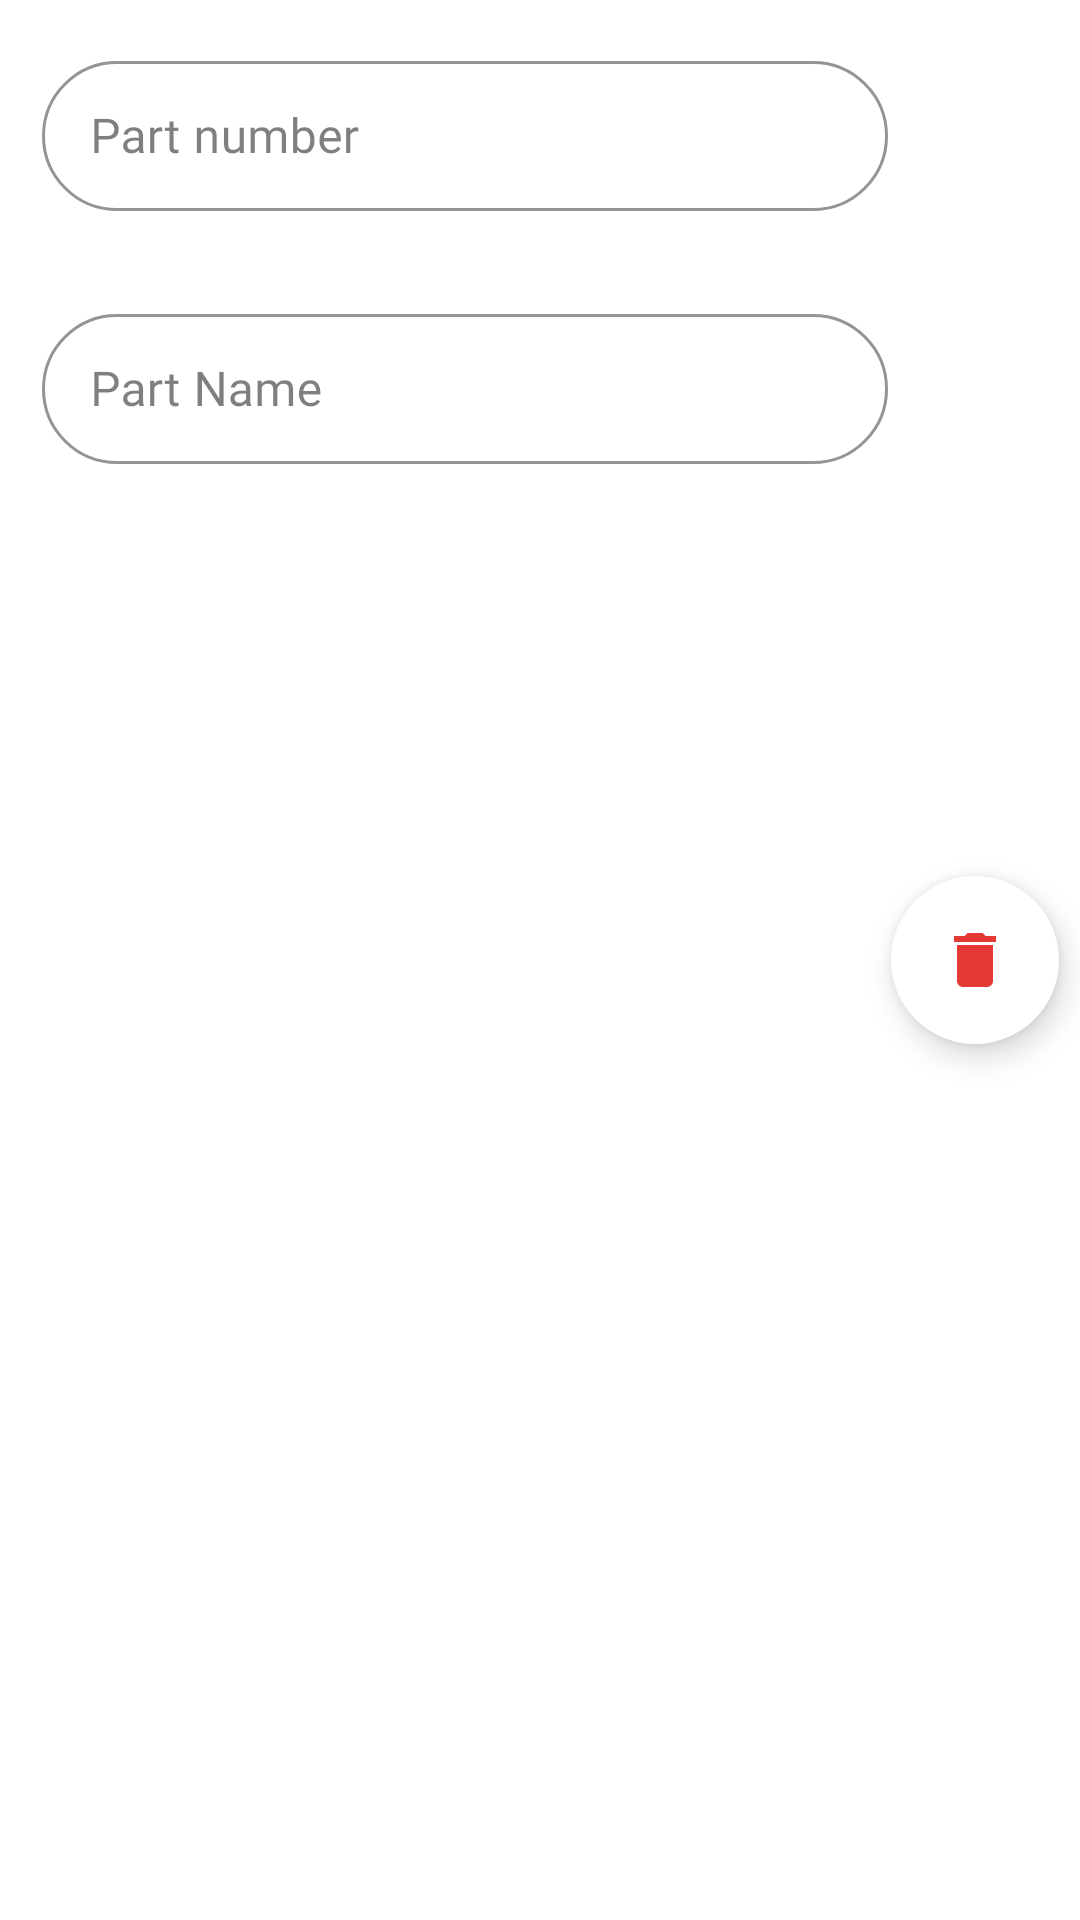

Named icons in this screenshot (1080px×1920px) and their bounding boxes, detection(x1, y1, x2, y2):
delete: detection(906, 933, 1058, 1010)
